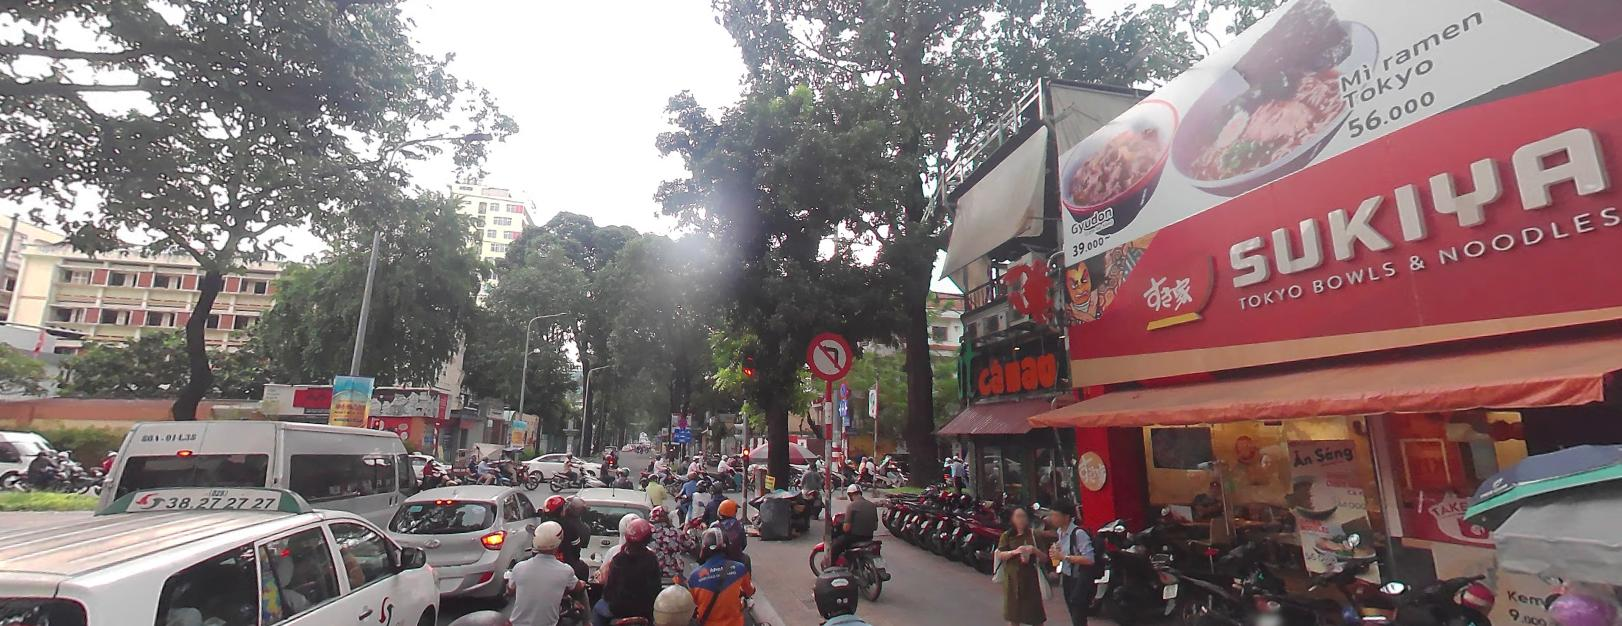Cam dung va do: (839, 379, 847, 397), (677, 416, 686, 425)
Cam re: (807, 328, 850, 379)
